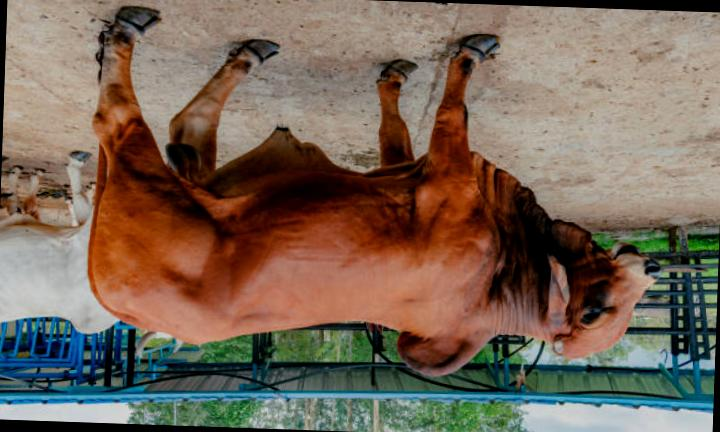Brahman: (88, 8, 659, 376)
